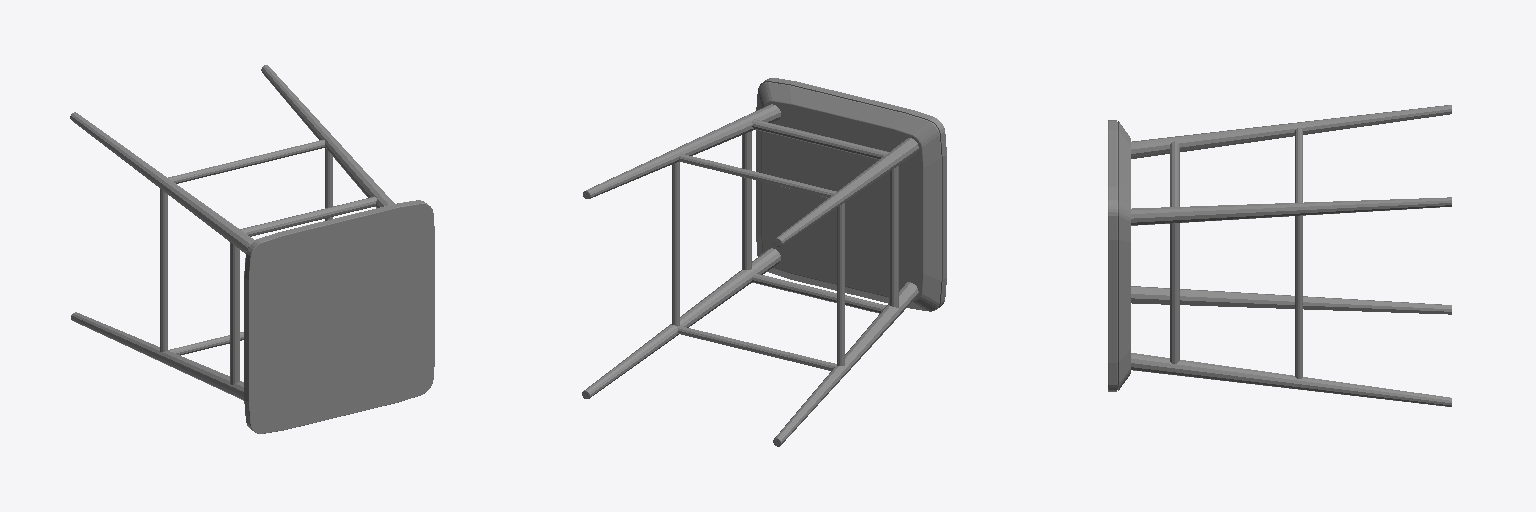
The model's file is banquito.obj.
3 renders of one model, left to right at view 1: azimuth 30°, elevation 25°; view 2: azimuth 150°, elevation 25°; view 3: azimuth 270°, elevation 25°, orthographic.
Visible parts, largest first — view 1: model_0; view 2: model_0; view 3: model_0.
Part boxes in pixels (x1,y1,x2,y2): model_0: (70,65,434,433); model_0: (582,78,946,446); model_0: (1108,105,1451,406).
Size of the model in its own units: 4.38 by 4.38 by 6.52.